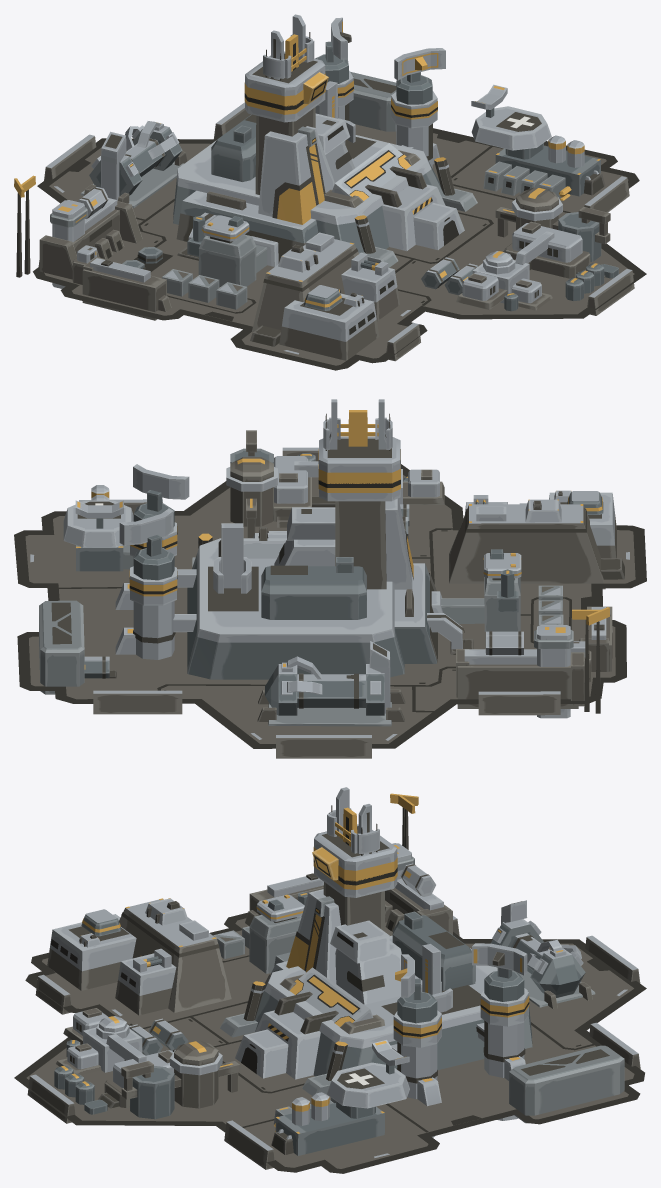
The model's file is playercity3.FBX.
3 renders of one model, top to bottom at view 1: azimuth 30°, elevation 25°; view 2: azimuth 150°, elevation 25°; view 3: azimuth 270°, elevation 25°, orthographic. The views are drawn at different scales.
Visible parts, largest first — view 1: playercity3, b, c, a, g; view 2: playercity3, a, b, c, d, g; view 3: playercity3, c, a, b, g.
Boxes of the visible parts, x1,y1,x2,y2 form: playercity3: (16,14,646,370); b: (394,48,445,82); c: (325,17,351,62); a: (319,81,355,143); g: (512,197,562,220); playercity3: (14,399,646,758); a: (213,523,251,593); b: (133,464,189,511); c: (119,508,173,556); d: (348,410,367,446); g: (226,467,277,491); playercity3: (14,787,646,1173); c: (472,943,527,978); a: (421,944,452,1012); b: (395,954,420,999); g: (170,1050,222,1075).
Size of the model in its own units: 508 by 471 by 211.
Materials: 1 (1 with a texture image).
